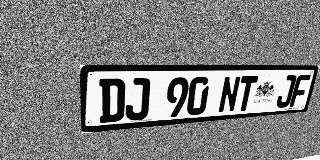0: (186, 77, 210, 116)
9: (165, 77, 190, 118)
D: (99, 78, 125, 123)
F: (289, 75, 311, 107)
J: (125, 78, 151, 121), (275, 75, 297, 108)
N: (218, 76, 241, 113)
T: (235, 76, 258, 112)
